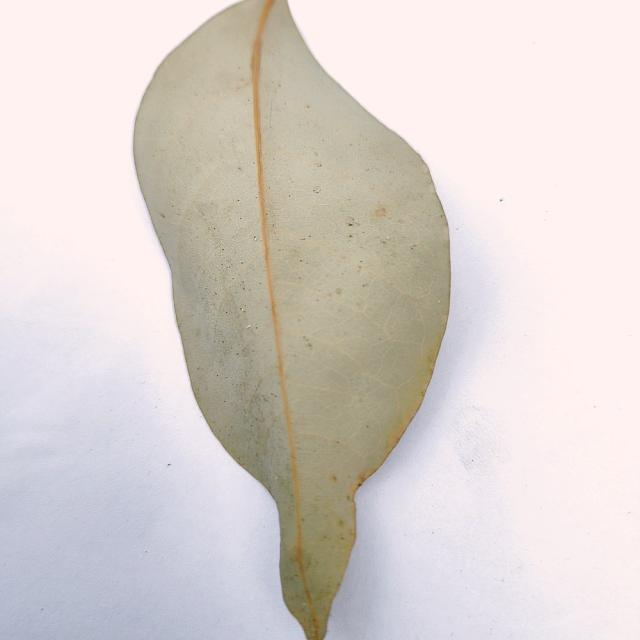Dry_Leaf-Lychee: (130, 0, 452, 639)
